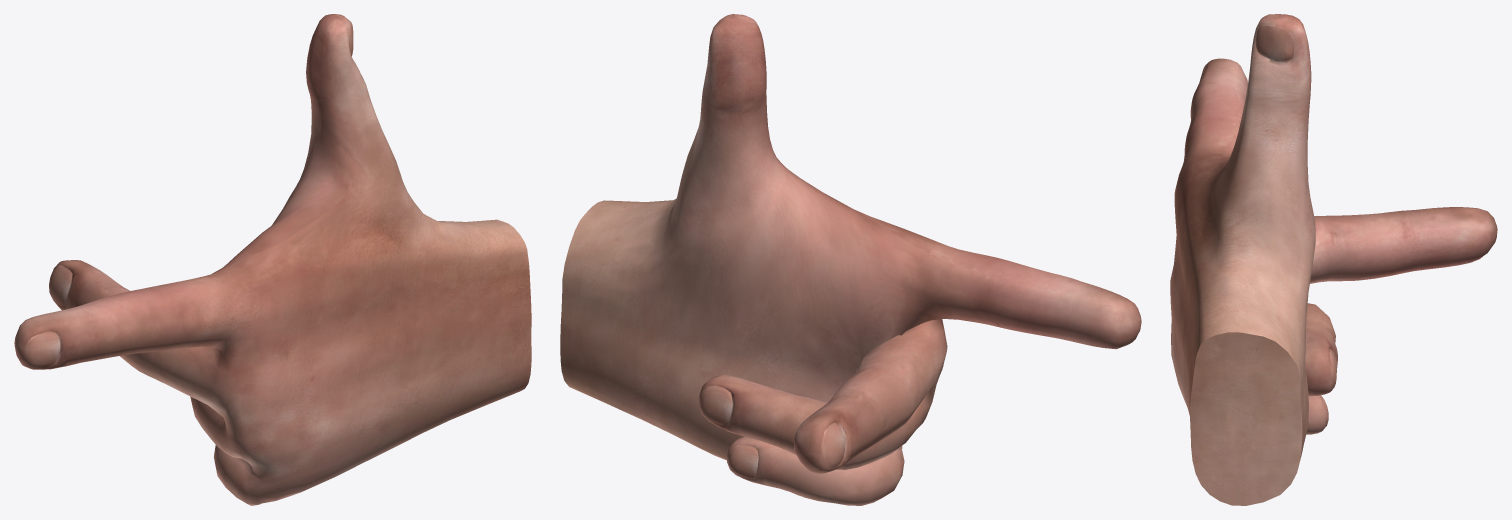
The picture shows the model from 3 angles, left to right: view 1: azimuth 30°, elevation 25°; view 2: azimuth 150°, elevation 25°; view 3: azimuth 270°, elevation 25°; orthographic projection. The views are drawn at different scales.
Visible parts, largest first — view 1: Cube.005; view 2: Cube.005; view 3: Cube.005.
Boxes of the visible parts, bbox=[...] form: Cube.005: bbox=[14, 14, 531, 505]; Cube.005: bbox=[560, 14, 1141, 505]; Cube.005: bbox=[1170, 14, 1497, 505].
Bounding box in the file's own units: 178 × 149 × 95.88.
Materials: 1 (1 with a texture image).
